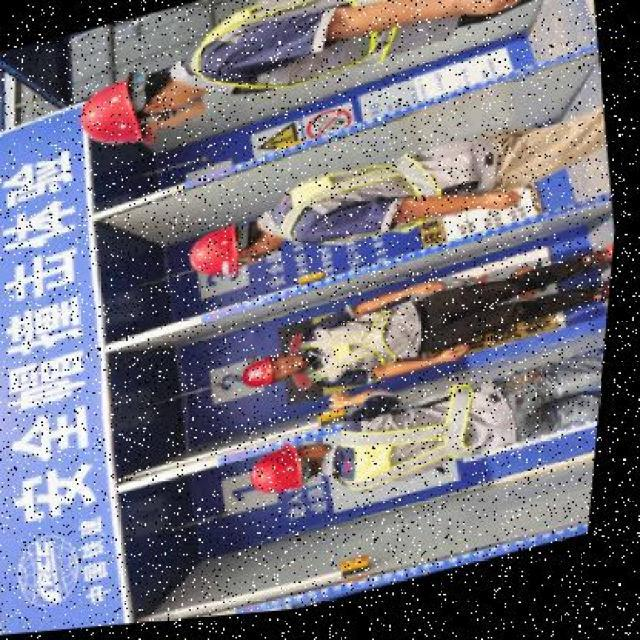helmet: (74, 62, 182, 164), (180, 218, 258, 290), (248, 443, 322, 508), (242, 354, 296, 399)
